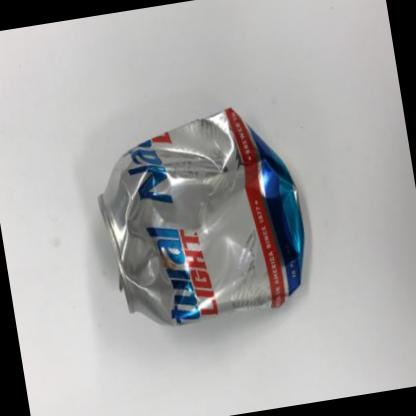Metal: (98, 107, 305, 324)
